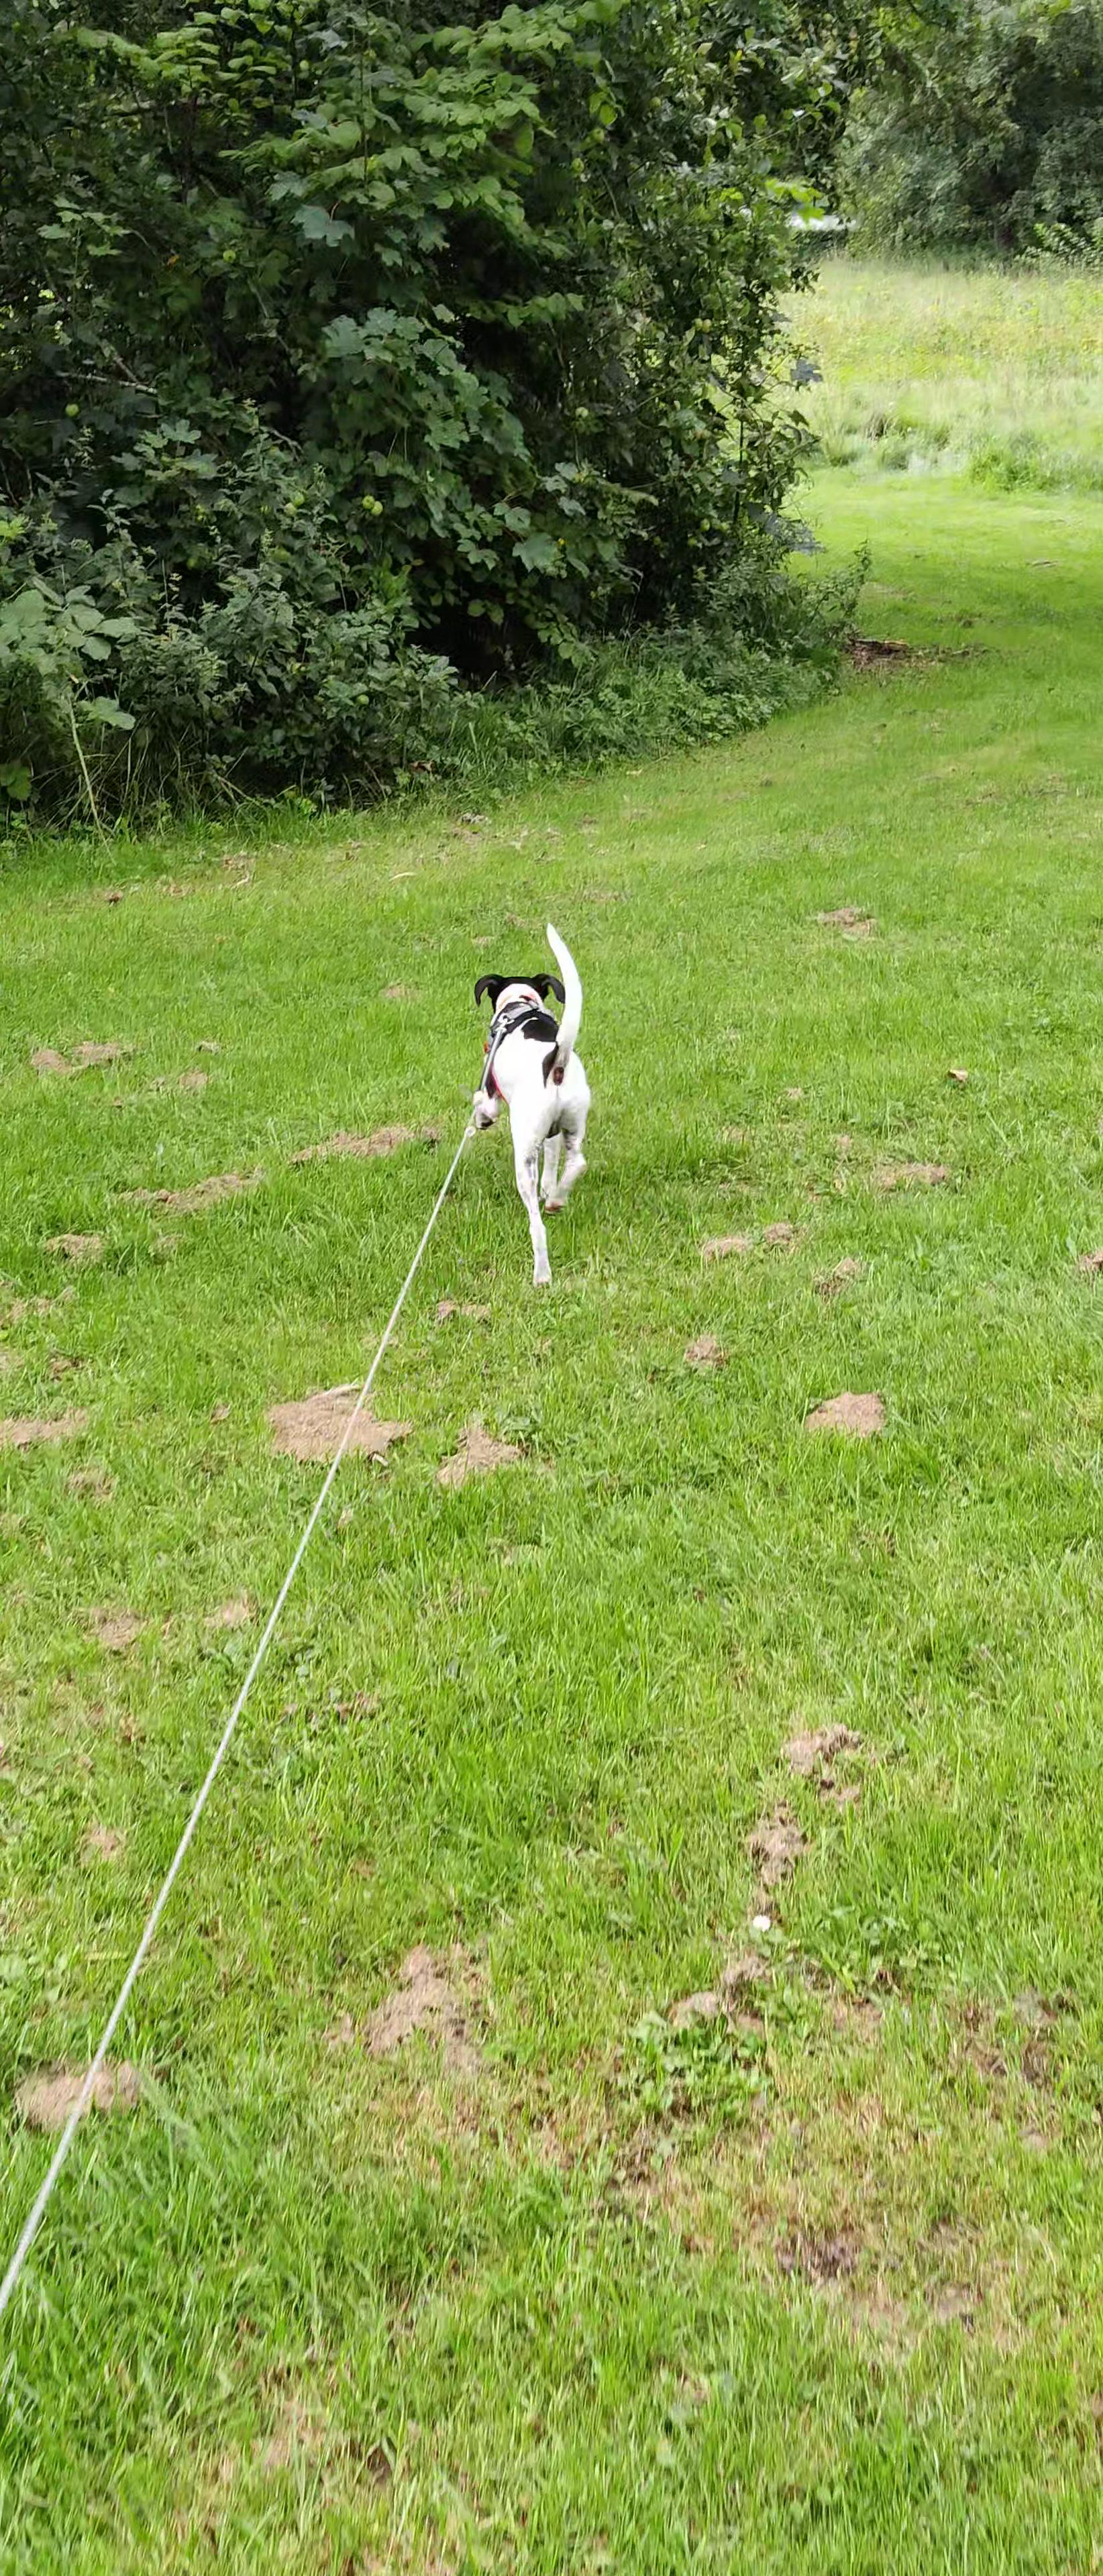Dog: (452, 910, 615, 1304)
